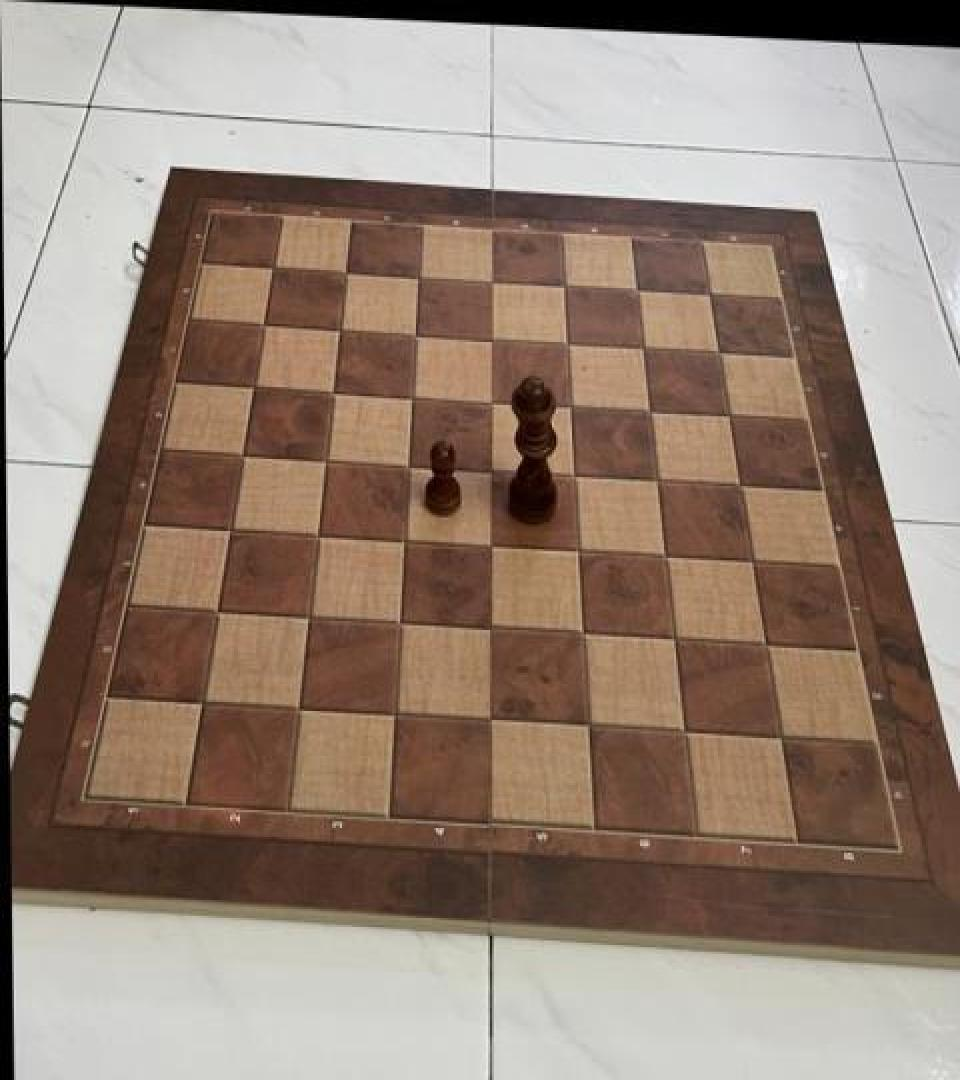xcorner: (401, 255, 435, 294), (316, 371, 350, 410), (693, 276, 727, 314), (620, 270, 654, 308), (547, 266, 581, 304), (475, 261, 509, 299), (328, 251, 362, 289), (255, 246, 289, 284), (703, 334, 737, 372), (627, 328, 661, 366), (551, 324, 585, 362), (475, 318, 509, 356), (398, 314, 432, 352), (322, 308, 356, 346), (246, 304, 280, 342), (713, 397, 747, 435), (633, 393, 667, 431), (554, 387, 588, 425), (475, 382, 509, 420), (395, 377, 429, 415), (236, 366, 270, 404), (724, 467, 758, 505), (641, 462, 675, 500), (558, 456, 592, 494), (475, 451, 509, 489), (391, 446, 425, 484), (308, 440, 342, 478), (225, 434, 259, 472), (736, 544, 770, 582), (649, 538, 683, 576), (562, 532, 596, 570), (475, 526, 509, 564), (388, 521, 422, 559), (300, 516, 334, 554), (213, 510, 247, 548), (749, 628, 783, 666), (658, 621, 692, 659), (566, 616, 600, 654), (475, 610, 509, 648), (383, 604, 417, 642), (291, 598, 325, 636), (200, 592, 234, 630), (764, 720, 798, 758), (668, 714, 702, 752), (571, 708, 605, 746), (475, 702, 509, 740), (378, 696, 412, 734), (282, 690, 316, 728), (185, 683, 219, 721)
